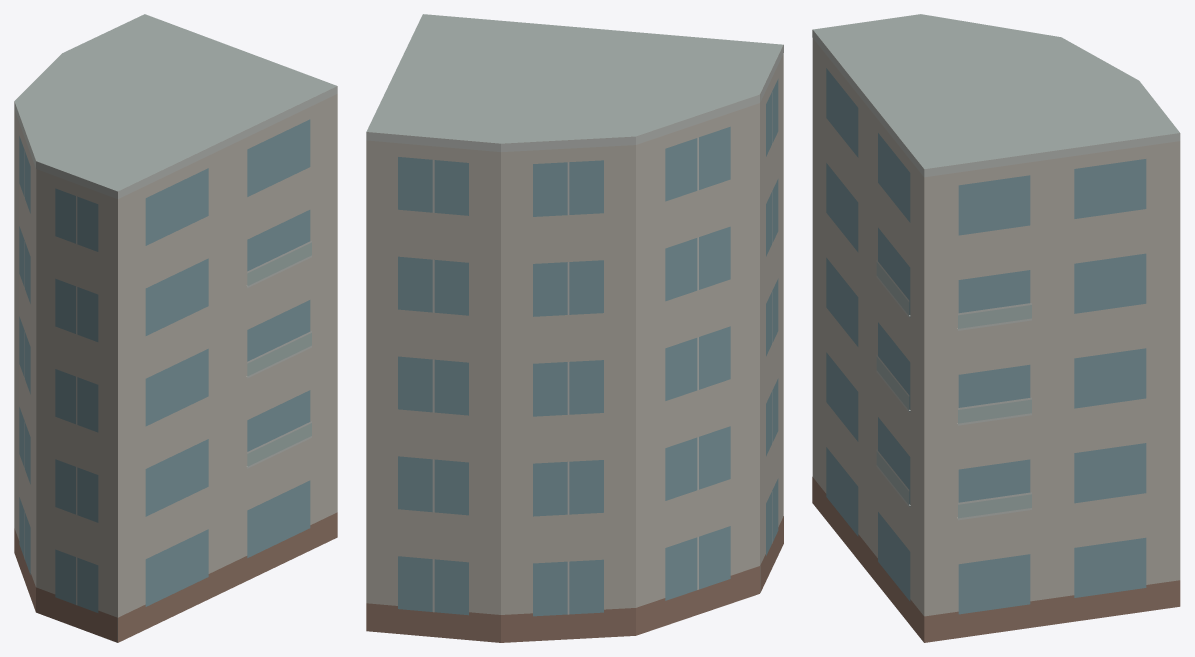
The model's file is survey-upis-32706346.glb.
The picture shows the model from 3 angles, left to right: view 1: azimuth 30°, elevation 25°; view 2: azimuth 150°, elevation 25°; view 3: azimuth 270°, elevation 25°; orthographic projection. The views are drawn at different scales.
Parts seen in each view (by area): view 1: survey-upis-32706346.tmp; view 2: survey-upis-32706346.tmp; view 3: survey-upis-32706346.tmp.
Part boxes in pixels (x1=…): survey-upis-32706346.tmp: x1=14, y1=14, x2=337, y2=642; survey-upis-32706346.tmp: x1=366, y1=14, x2=783, y2=642; survey-upis-32706346.tmp: x1=812, y1=14, x2=1180, y2=642.
Bounding box in the file's own units: 10.06 × 14.3 × 10.07.
